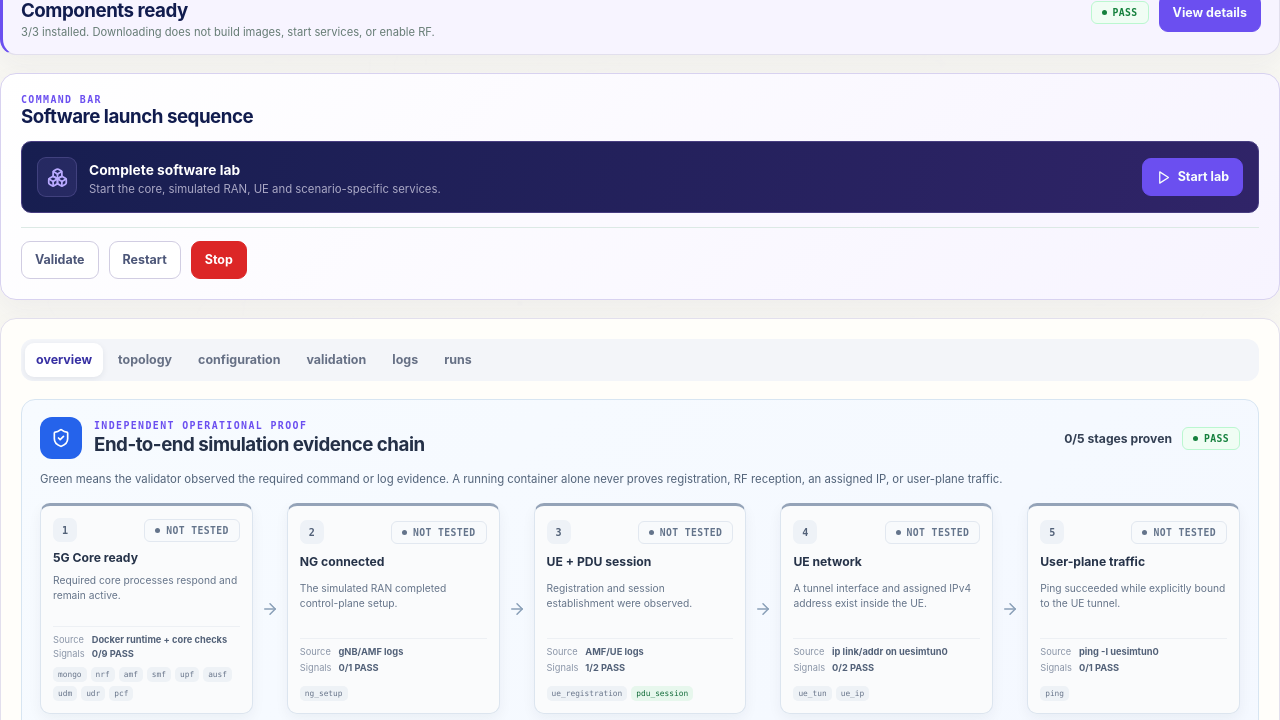
Test case: Scenario workspaces › keeps scenario commands and workspace tabs reachable
The image size is (1280, 720).
(page scrolled)
Expected: the button "Start lab" is shown, [1142,158,1243,196]
Expected: the tab "topology" is shown, [107,343,183,377]
Click the tab "validation".
click(336, 360)  # box [296,343,377,377]
(page scrolled)
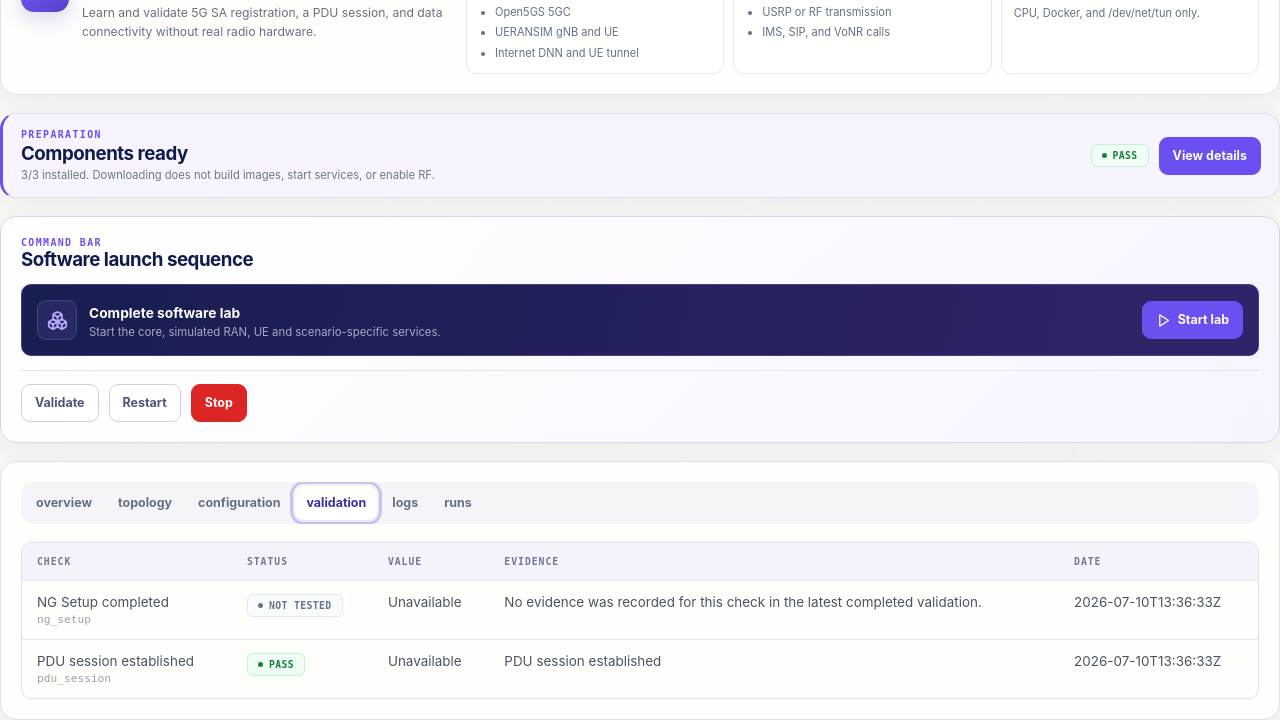
Now the text "PDU session established" is shown 2 times, box [22,640,232,698]; [489,640,1059,698]
